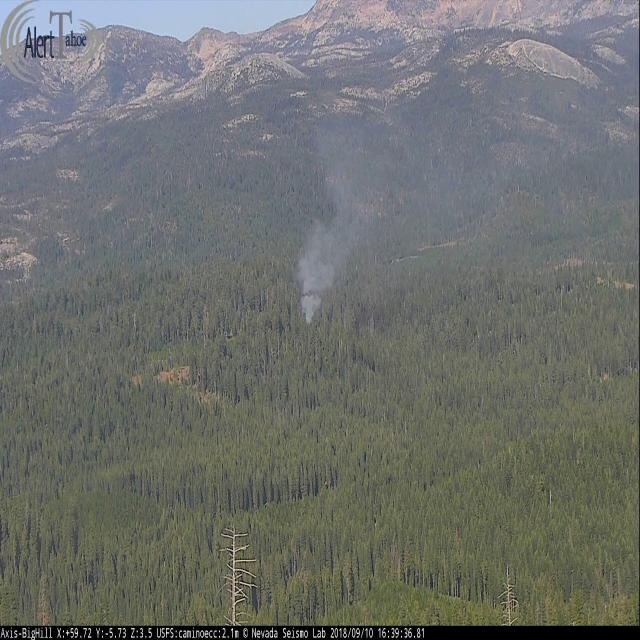smoke: (298, 55, 535, 325)
